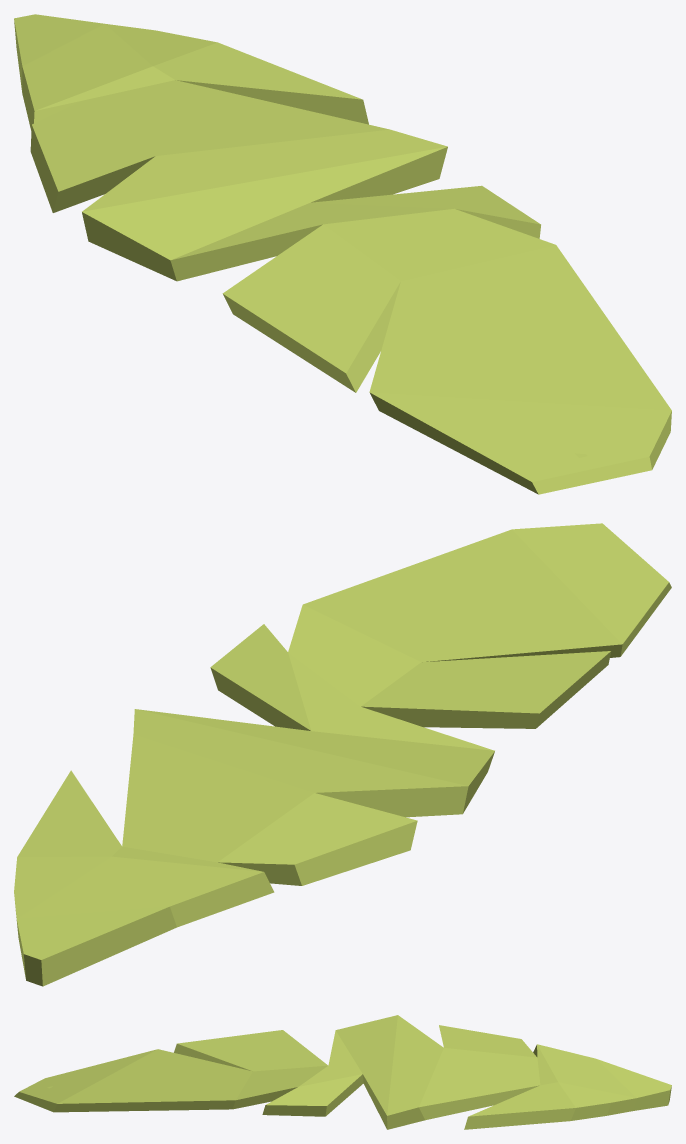
Rendered from Leaf_2.fbx.
3 renders of one model, top to bottom at view 1: azimuth 30°, elevation 25°; view 2: azimuth 150°, elevation 25°; view 3: azimuth 270°, elevation 25°, orthographic. The views are drawn at different scales.
Visible parts, largest first — view 1: Leaf2; view 2: Leaf2; view 3: Leaf2.
Part boxes in pixels (x1,y1,x2,y2): Leaf2: (14,14,671,494); Leaf2: (14,523,671,986); Leaf2: (14,1015,671,1129).
Size of the model in its own units: 61.42 by 11.71 by 183.
